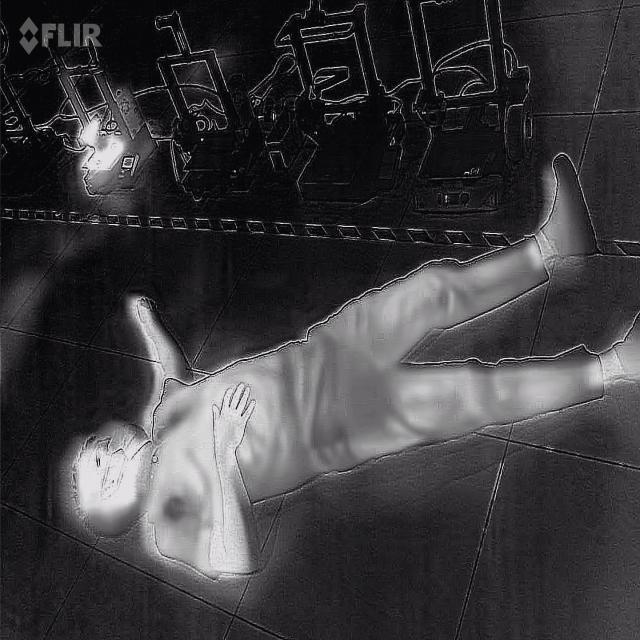Victim: (51, 144, 638, 587)
